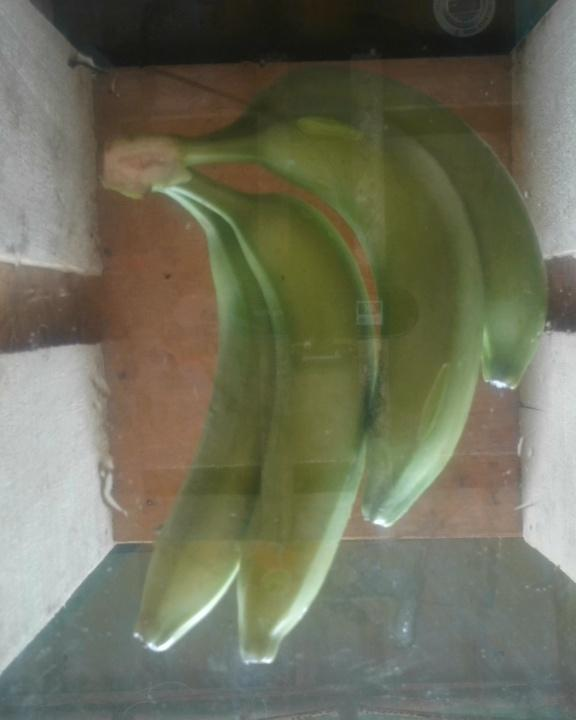SPOT: (71, 61, 553, 693)
